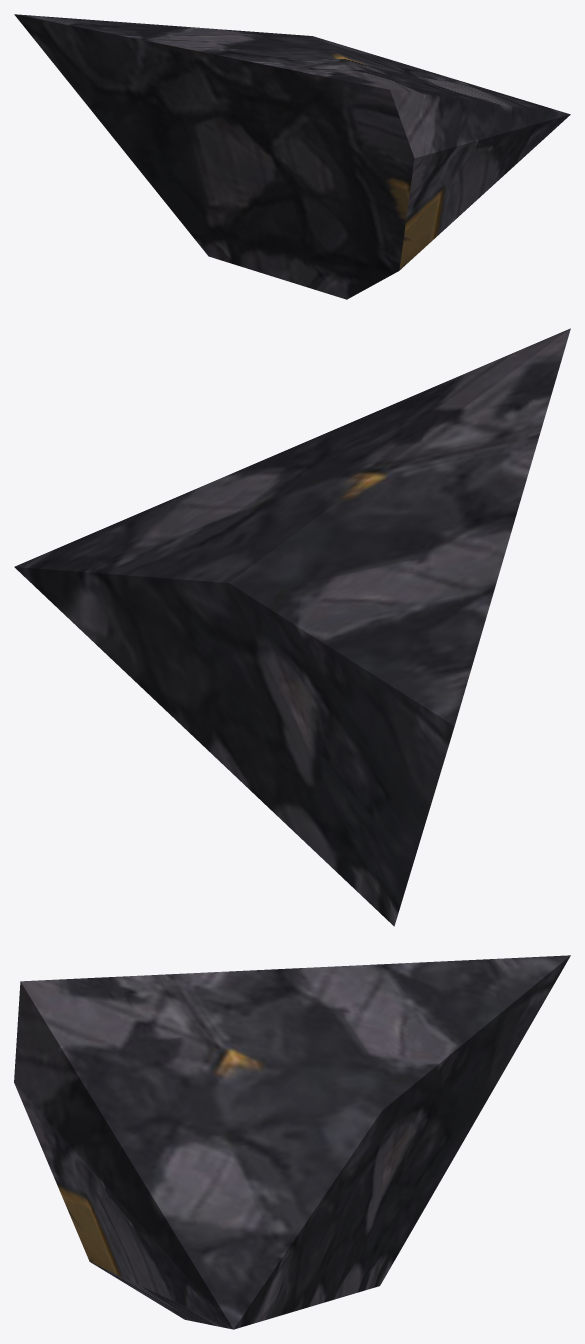
Rendered from BOSS_Stone_06.FBX.
3 renders of one model, top to bottom at view 1: azimuth 30°, elevation 25°; view 2: azimuth 150°, elevation 25°; view 3: azimuth 270°, elevation 25°, orthographic. The views are drawn at different scales.
Visible parts, largest first — view 1: BOSS_Stone_06; view 2: BOSS_Stone_06; view 3: BOSS_Stone_06.
Part boxes in pixels (x1,y1,x2,y2): BOSS_Stone_06: [14, 14, 570, 299]; BOSS_Stone_06: [14, 328, 570, 926]; BOSS_Stone_06: [14, 955, 570, 1329].
Bounding box in the file's own units: 1.38 × 0.834 × 1.29.
